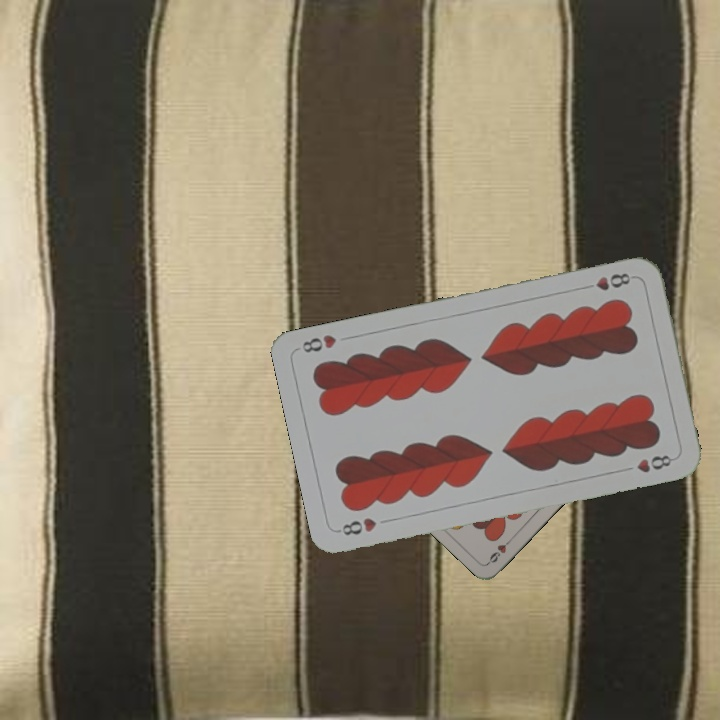H8: (579, 269, 633, 293), (335, 513, 380, 538)
H9: (484, 533, 516, 566)
